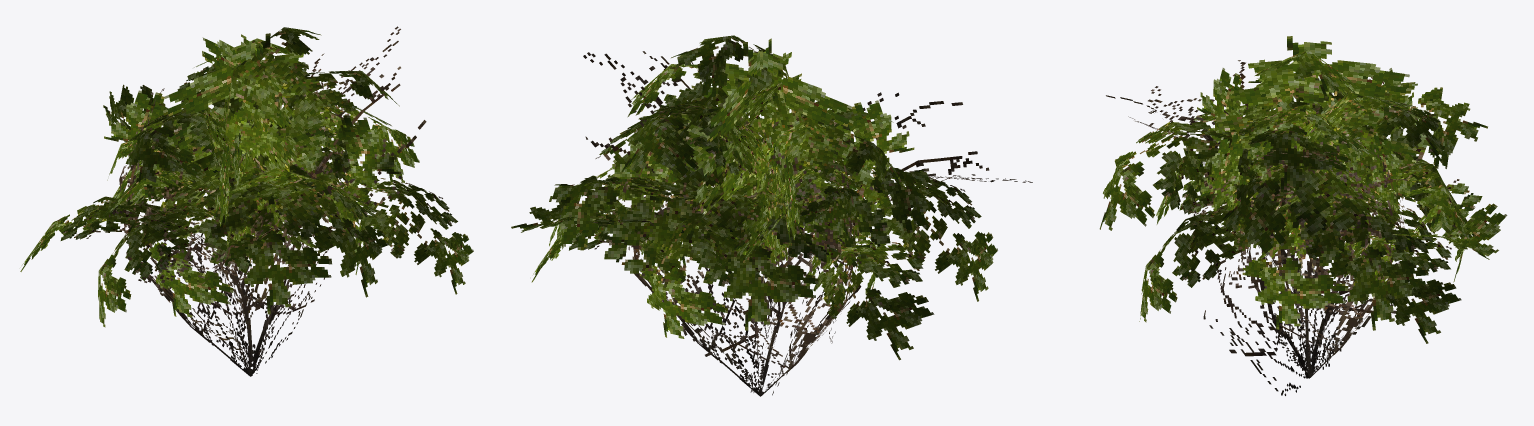
File: bush_05.glb
3 renders of one model, left to right at view 1: azimuth 30°, elevation 25°; view 2: azimuth 150°, elevation 25°; view 3: azimuth 270°, elevation 25°, orthographic. The views are drawn at different scales.
Visible parts, largest first — view 1: bush_05; view 2: bush_05; view 3: bush_05.
Part boxes in pixels (left/top/right/bottom): bush_05: left=20, top=26, right=473, bottom=376; bush_05: left=511, top=35, right=1032, bottom=396; bush_05: left=1099, top=36, right=1507, bottom=395.
Bounding box in the file's own units: 1.1 × 1.03 × 1.1.
Materials: 1 (1 with a texture image).
